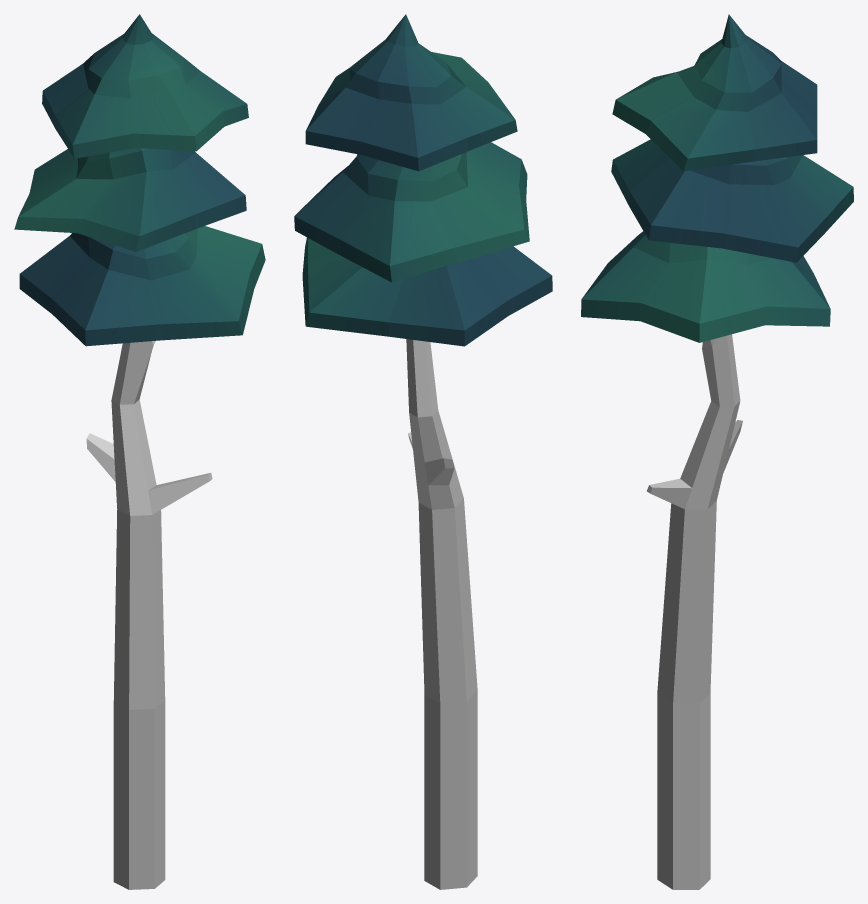
File: Tree_Pine06.fbx
3 views of the same model, side by side, from view 1: azimuth 30°, elevation 25°; view 2: azimuth 150°, elevation 25°; view 3: azimuth 270°, elevation 25° (orthographic). The views are drawn at different scales.
Parts seen in each view (by area): view 1: TolTreeTrunk5; view 2: TolTreeTrunk5; view 3: TolTreeTrunk5.
Part boxes in pixels (box(x1,y1,x2,y2)): TolTreeTrunk5: box(14, 14, 265, 889); TolTreeTrunk5: box(294, 14, 552, 889); TolTreeTrunk5: box(581, 14, 853, 889).
Size of the model in its own units: 175 by 606 by 171.
